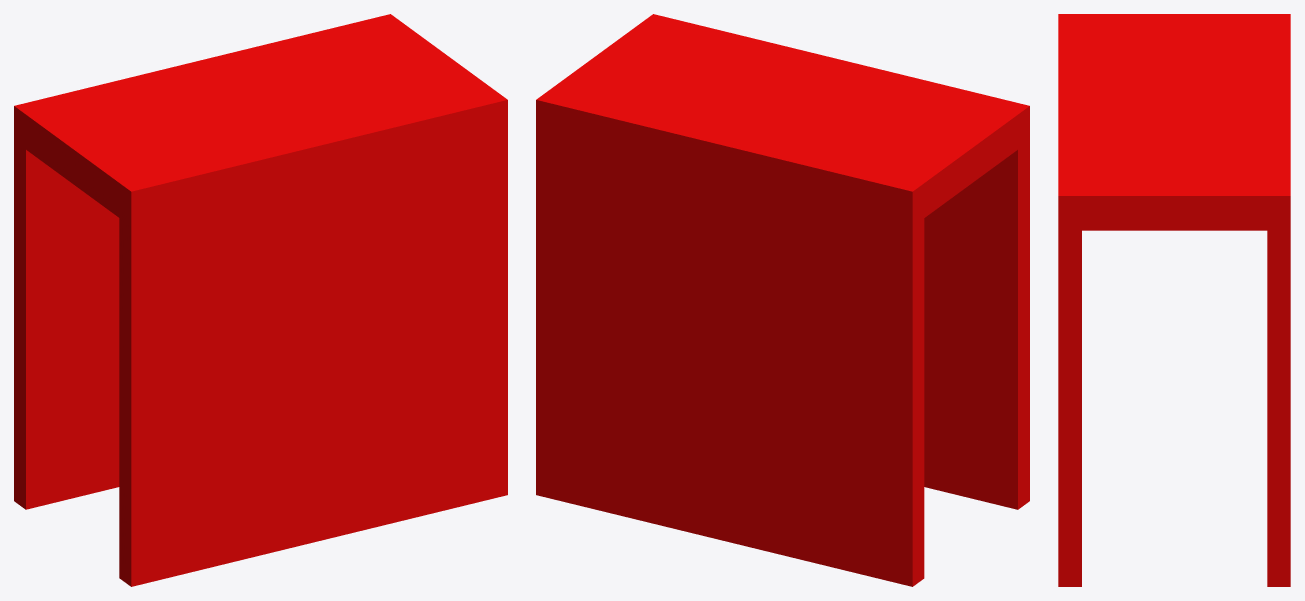
File: Platform_col.fbx
3 renders of one model, left to right at view 1: azimuth 30°, elevation 25°; view 2: azimuth 150°, elevation 25°; view 3: azimuth 270°, elevation 25°, orthographic.
Visible parts, largest first — view 1: Platform_col; view 2: Platform_col; view 3: Platform_col.
Boxes of the visible parts, x1,y1,x2,y2 form: Platform_col: (14, 14, 507, 586); Platform_col: (536, 14, 1029, 586); Platform_col: (1058, 14, 1290, 586).
Bounding box in the file's own units: 3.01 × 3.02 × 1.62.
